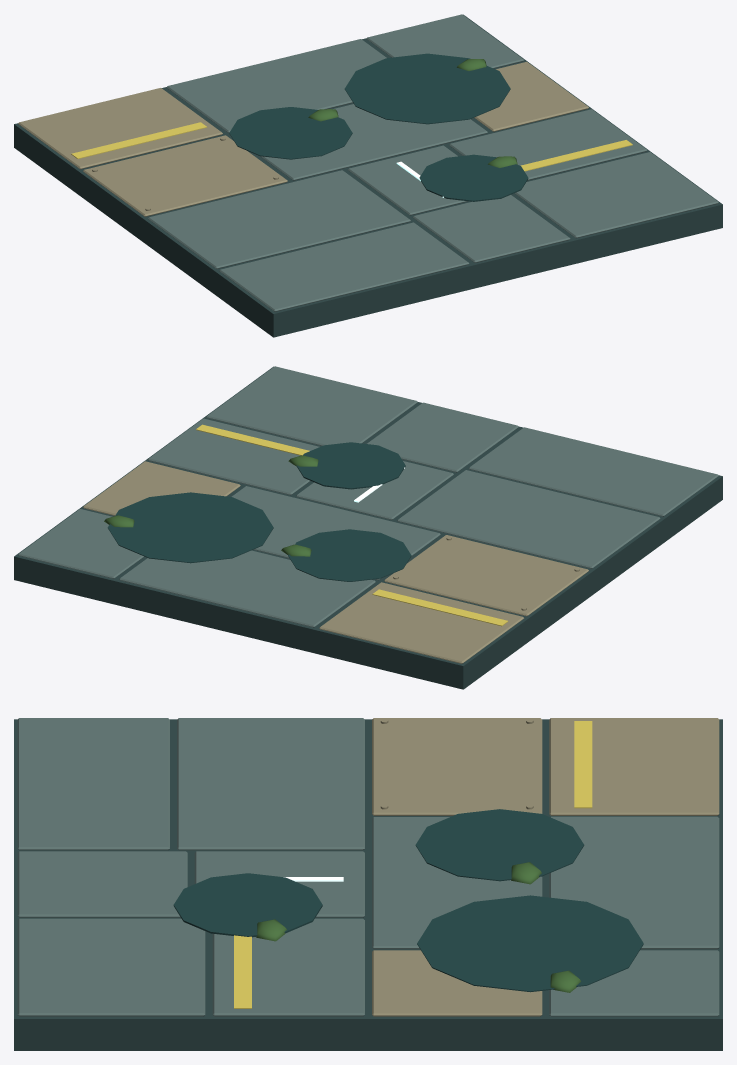
Rendered from floor_dr_plate2.glb.
The picture shows the model from 3 angles, top to bottom: view 1: azimuth 30°, elevation 25°; view 2: azimuth 150°, elevation 25°; view 3: azimuth 270°, elevation 25°; orthographic projection. The views are drawn at different scales.
Visible parts, largest first — view 1: floor_dr_plate2; view 2: floor_dr_plate2; view 3: floor_dr_plate2.
Boxes of the visible parts, <box> form: floor_dr_plate2: <box>14,14,722,337</box>; floor_dr_plate2: <box>14,366,722,689</box>; floor_dr_plate2: <box>14,718,722,1050</box>.
Bounding box in the file's own units: 4 × 0.27 × 4.
